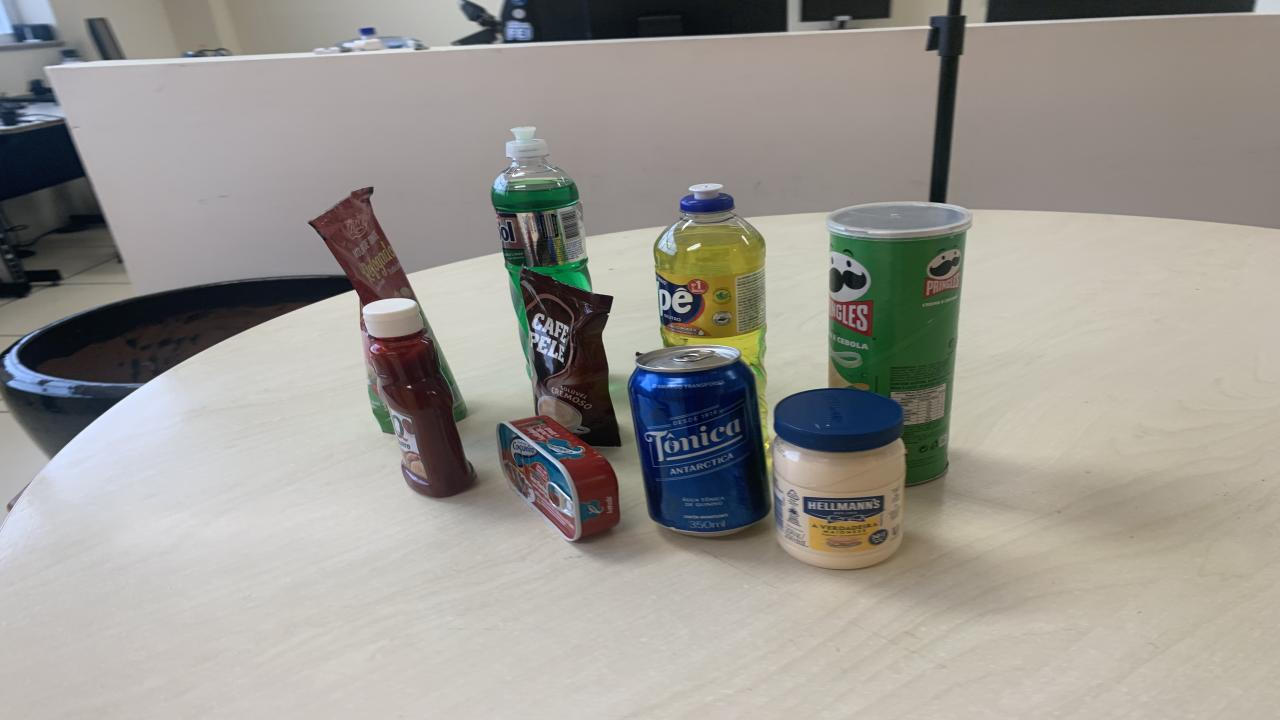Coffee-Pantry_Items: (520, 268, 620, 446)
Detergent-Cleanup_Items: (655, 184, 765, 428), (490, 128, 592, 364)
Ketchup-Pantry_Items: (362, 298, 475, 497)
Mayonnaise-Pantry_Items: (772, 388, 905, 570)
Pringles-Snacks: (825, 202, 972, 486)
Tomato_Sauce-Pantry_Items: (310, 188, 415, 306)
Tonic-Drinks: (628, 345, 770, 536)
Tuna_Can-Pantry_Items: (498, 416, 620, 540)
